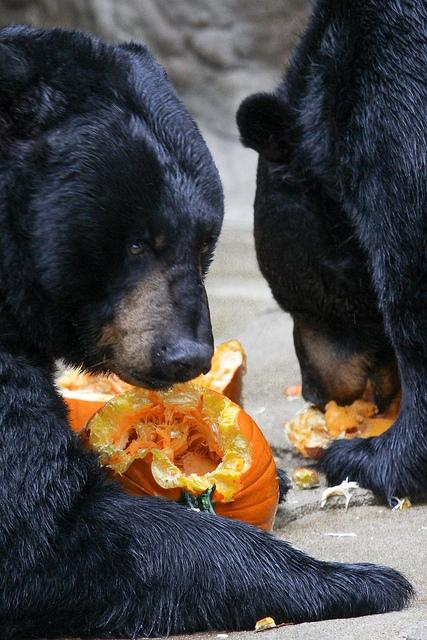pumpkin: (78, 382, 280, 532), (56, 340, 248, 432), (284, 388, 402, 460)
